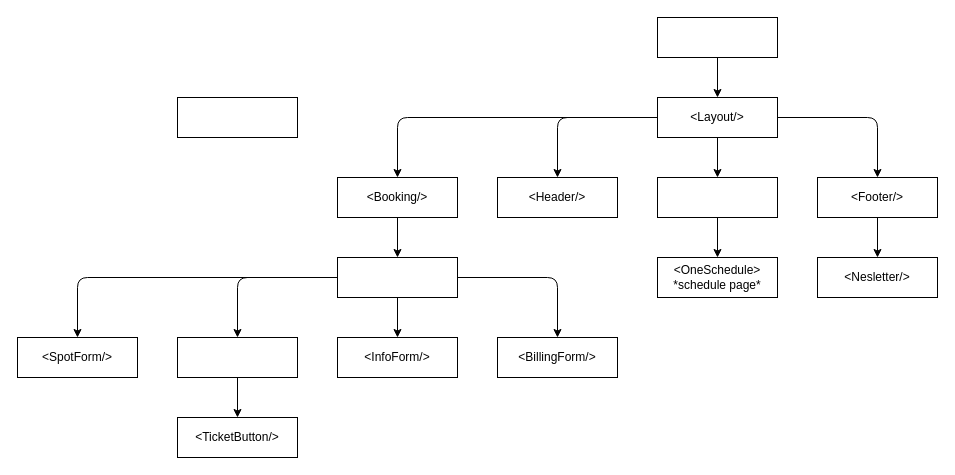
Some shapes in this 955 by 475 pixel diagram are drawn without their labels. Each missing label, with the box of its shape:
<Anchor> *links to other pages*: (176, 96, 298, 138)
<BookingForm/>: (336, 256, 458, 298)
<main/> *all pages*: (656, 176, 778, 218)
<MyApp/>: (656, 16, 778, 58)
<TicketForm/>: (176, 336, 298, 378)
